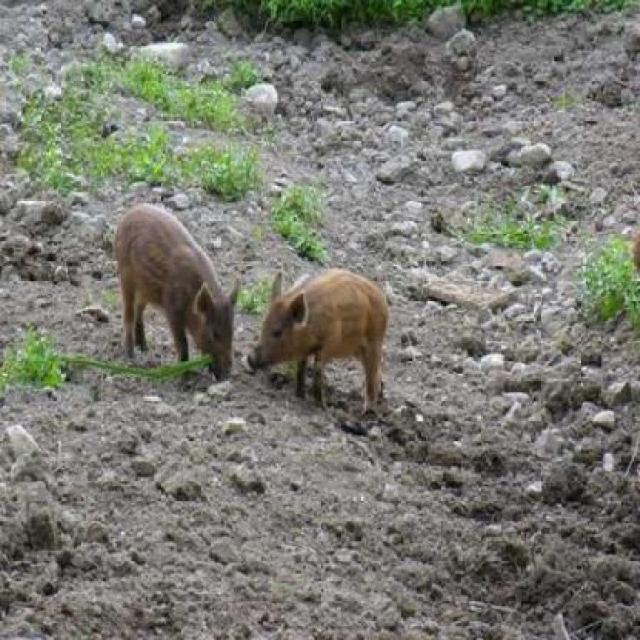pig: (58, 115, 272, 381), (245, 224, 447, 453)
